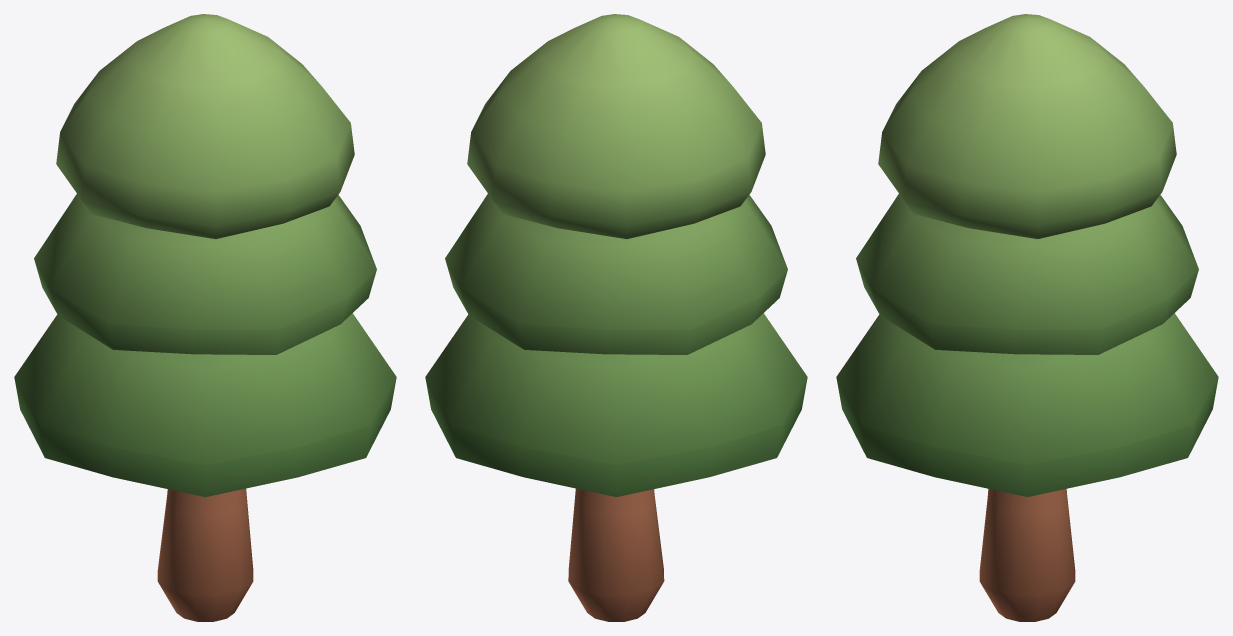
File: tree_large.glb
3 renders of one model, left to right at view 1: azimuth 30°, elevation 25°; view 2: azimuth 150°, elevation 25°; view 3: azimuth 270°, elevation 25°, orthographic.
Visible parts, largest first — view 1: tree_large; view 2: tree_large; view 3: tree_large.
Part boxes in pixels (left/top/right/bottom): tree_large: left=14, top=14, right=396, bottom=621; tree_large: left=425, top=14, right=807, bottom=621; tree_large: left=836, top=14, right=1218, bottom=621.
Bounding box in the file's own units: 2.48 × 4.23 × 2.48.
Materials: 1 (1 with a texture image).
